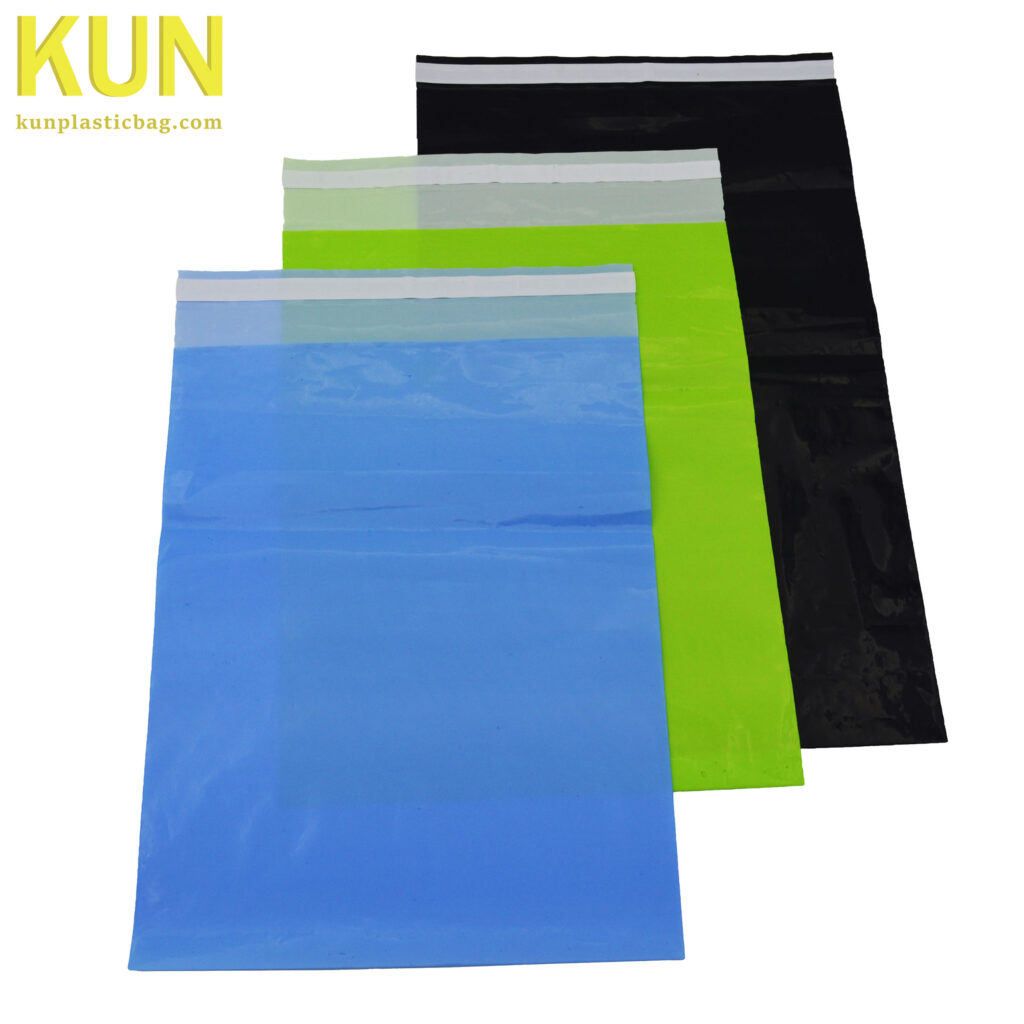Parcel: (403, 0, 948, 811), (107, 254, 683, 975), (269, 102, 805, 843)
